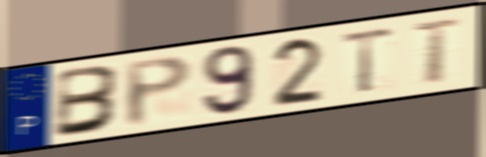2: (269, 34, 325, 111)
9: (199, 43, 258, 117)
B: (52, 63, 124, 140)
P: (122, 53, 195, 129)
T: (338, 23, 398, 96), (409, 16, 466, 86)
